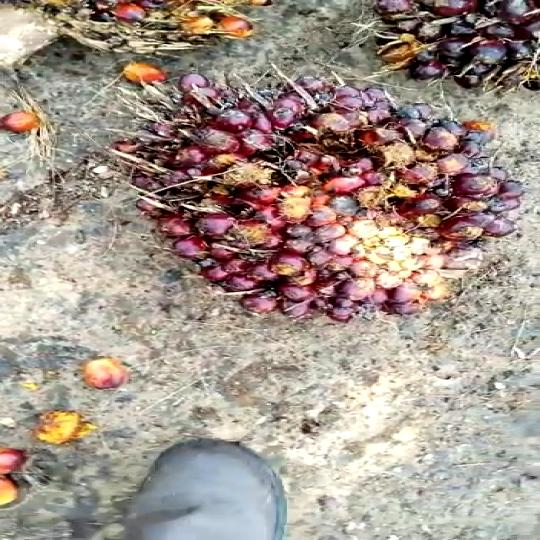masak: (104, 73, 522, 326)
